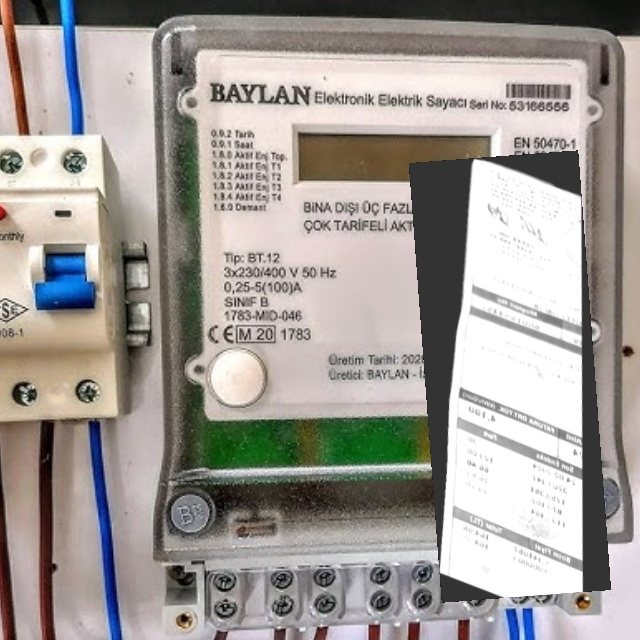electricity-bill: (409, 150, 611, 602)
